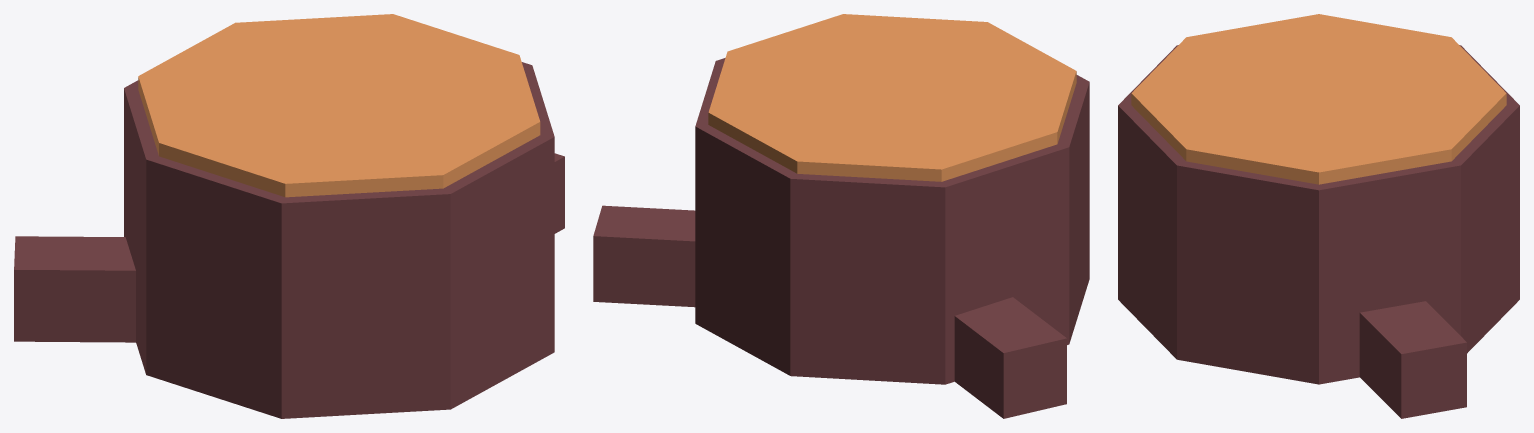
The model's file is stump.glb.
3 renders of one model, left to right at view 1: azimuth 30°, elevation 25°; view 2: azimuth 150°, elevation 25°; view 3: azimuth 270°, elevation 25°, orthographic. The views are drawn at different scales.
Visible parts, largest first — view 1: Stump, Top, Root1, Root0; view 2: Stump, Top, Root1, Root0; view 3: Stump, Top, Root0.
Boxes of the visible parts, bbox=[...] form: Stump: bbox=[124, 62, 554, 418]; Top: bbox=[138, 14, 540, 197]; Root1: bbox=[14, 236, 135, 342]; Root0: bbox=[554, 153, 564, 233]; Stump: bbox=[695, 58, 1089, 384]; Top: bbox=[708, 14, 1076, 181]; Root1: bbox=[954, 297, 1066, 418]; Root0: bbox=[593, 205, 695, 307]; Stump: bbox=[1118, 45, 1519, 384]; Top: bbox=[1131, 14, 1506, 184]; Root0: bbox=[1359, 301, 1466, 418].
Bounding box in the file's own units: 1.23 × 0.51 × 0.9.
